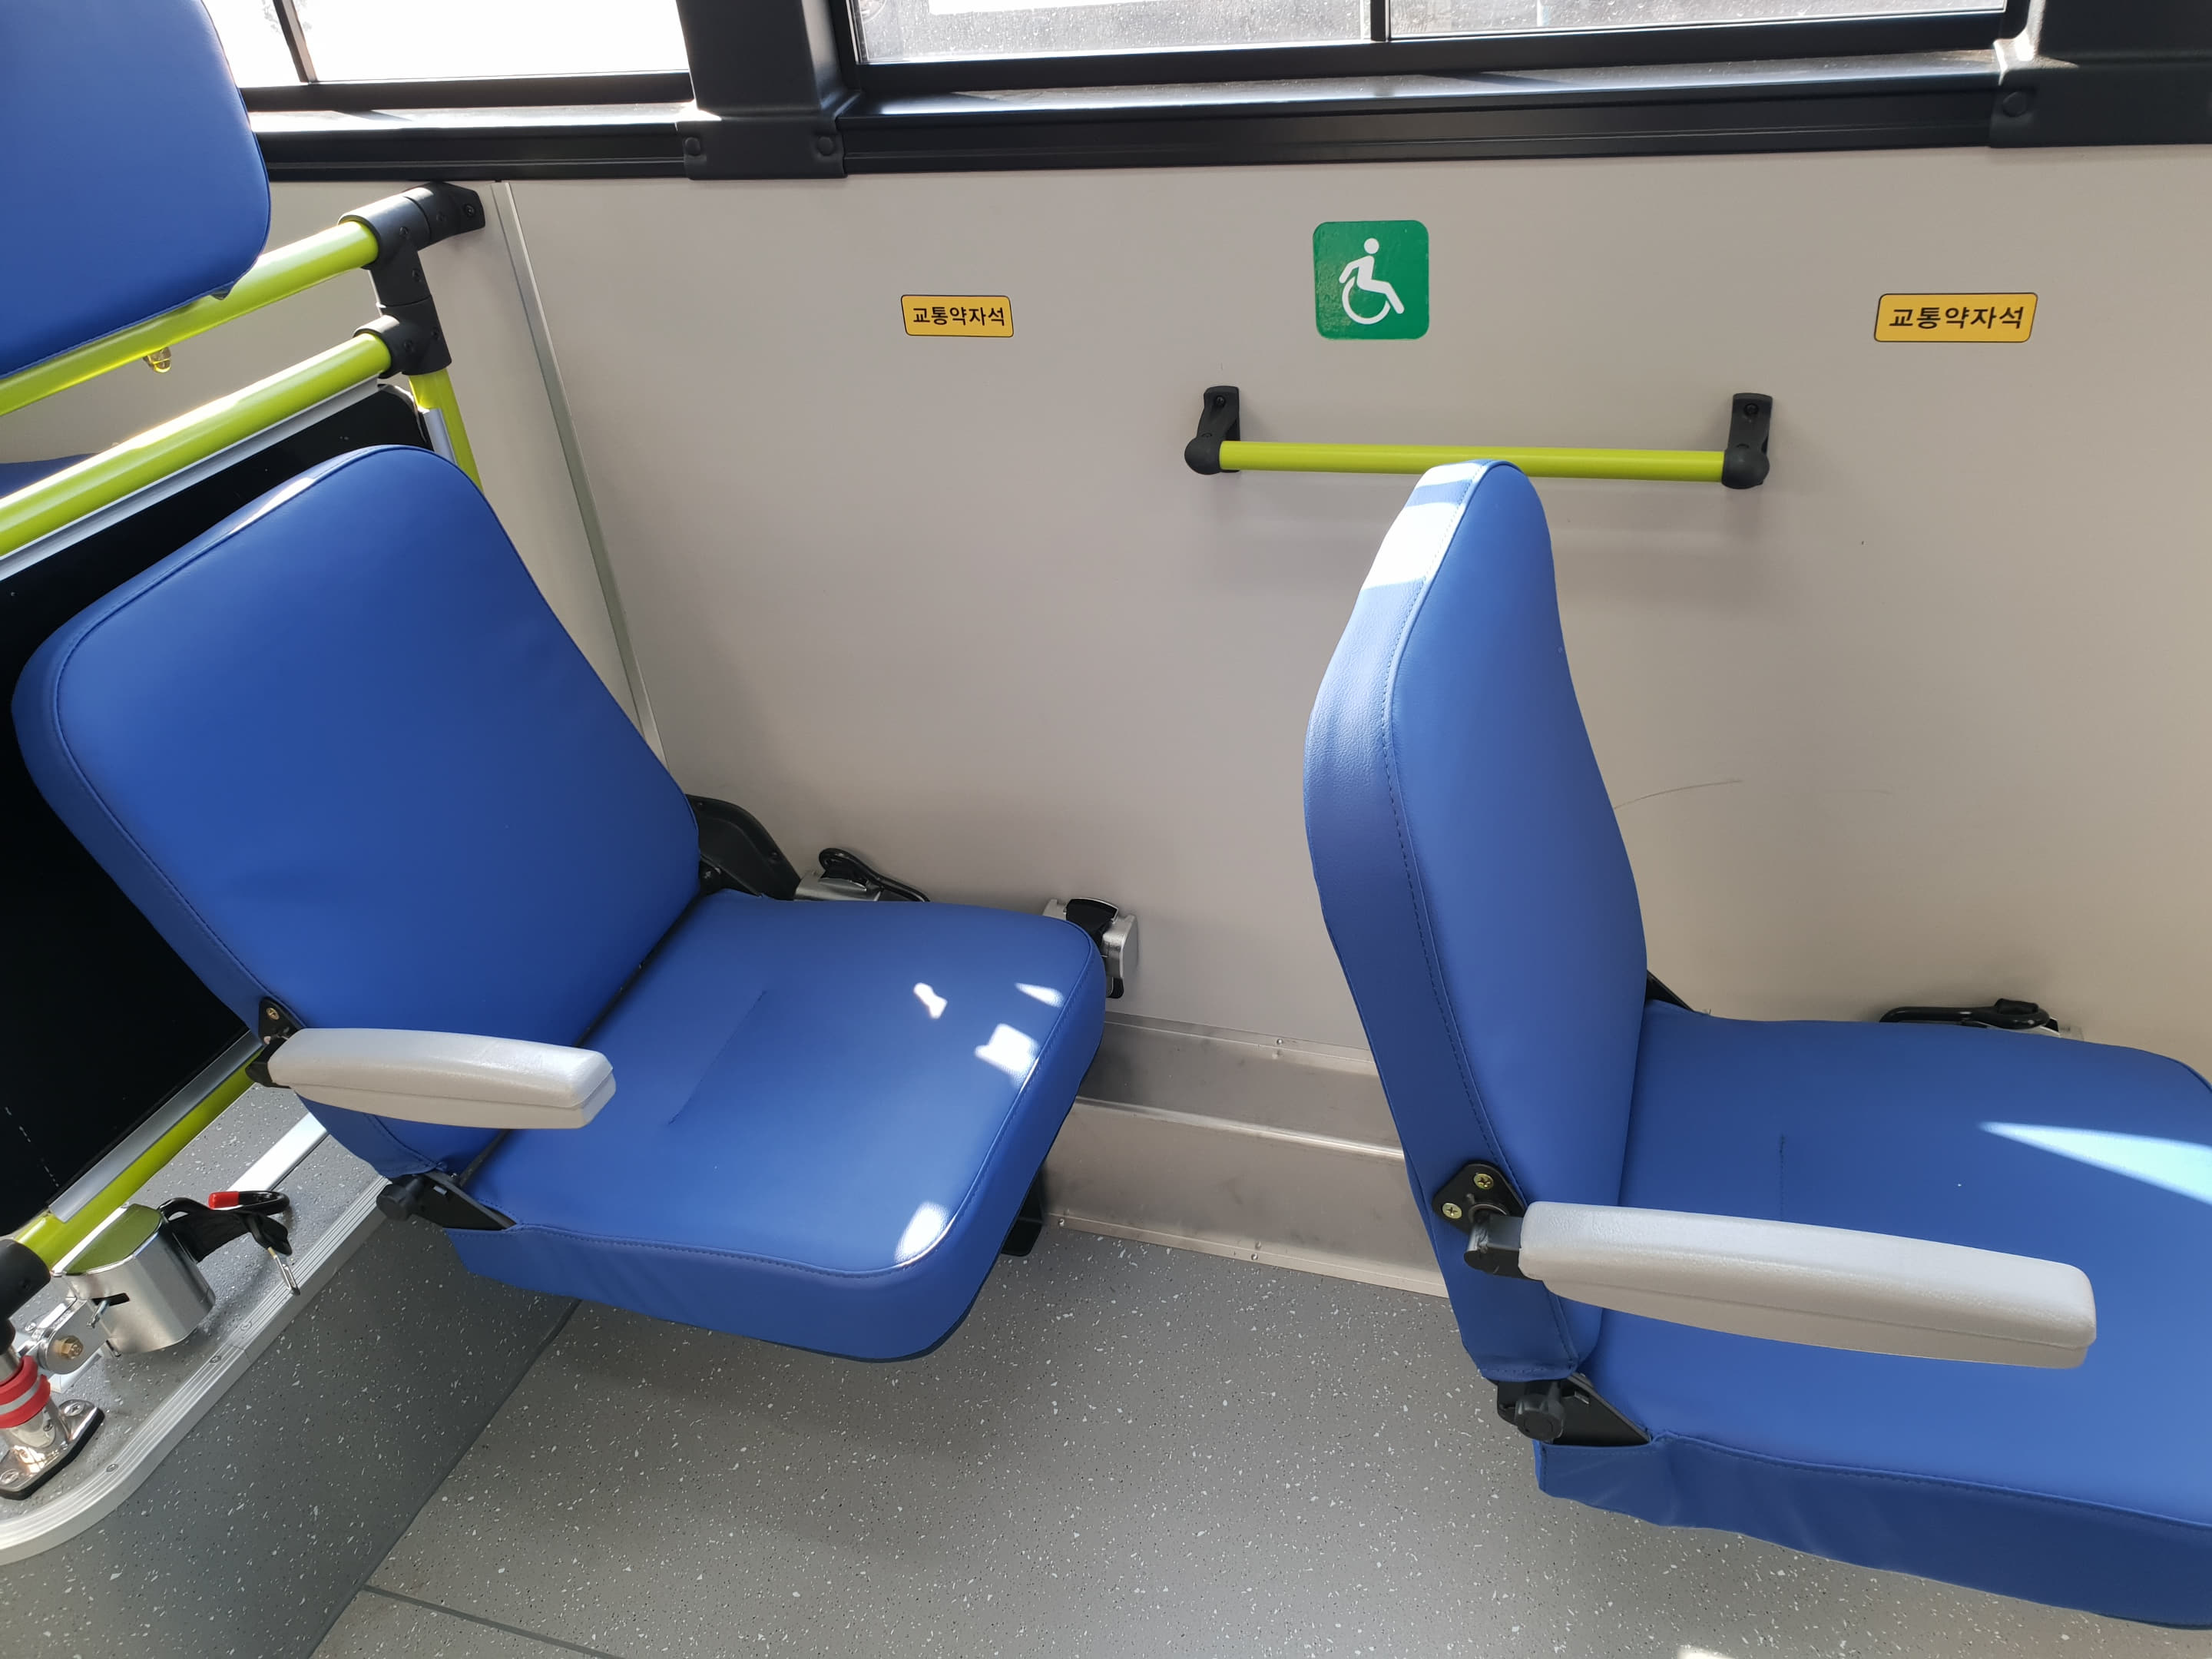seat: (28, 444, 1132, 1385)
